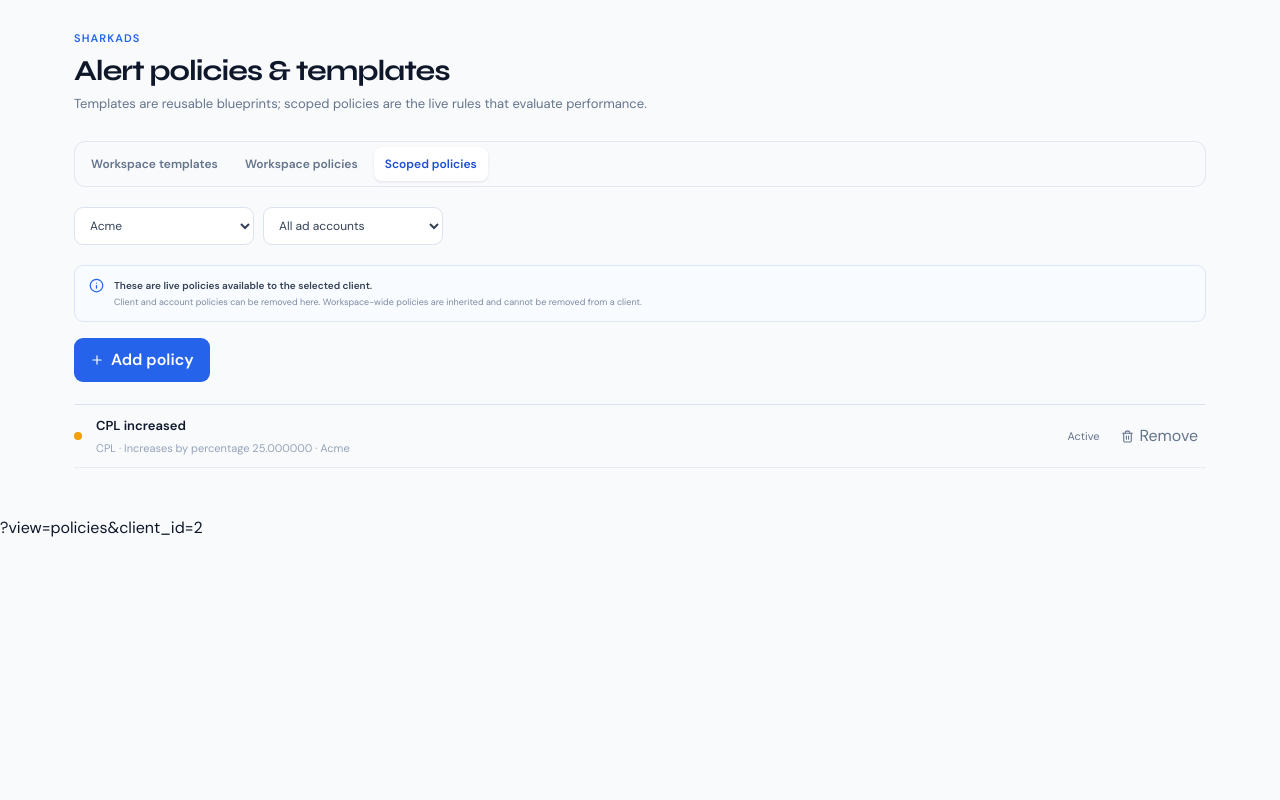
Scenario: removes a client-scoped policy from the selected client
Click the button with aria-label "Remove CPL increased": (1160, 436) x1=1113 y1=418 x2=1206 y2=454
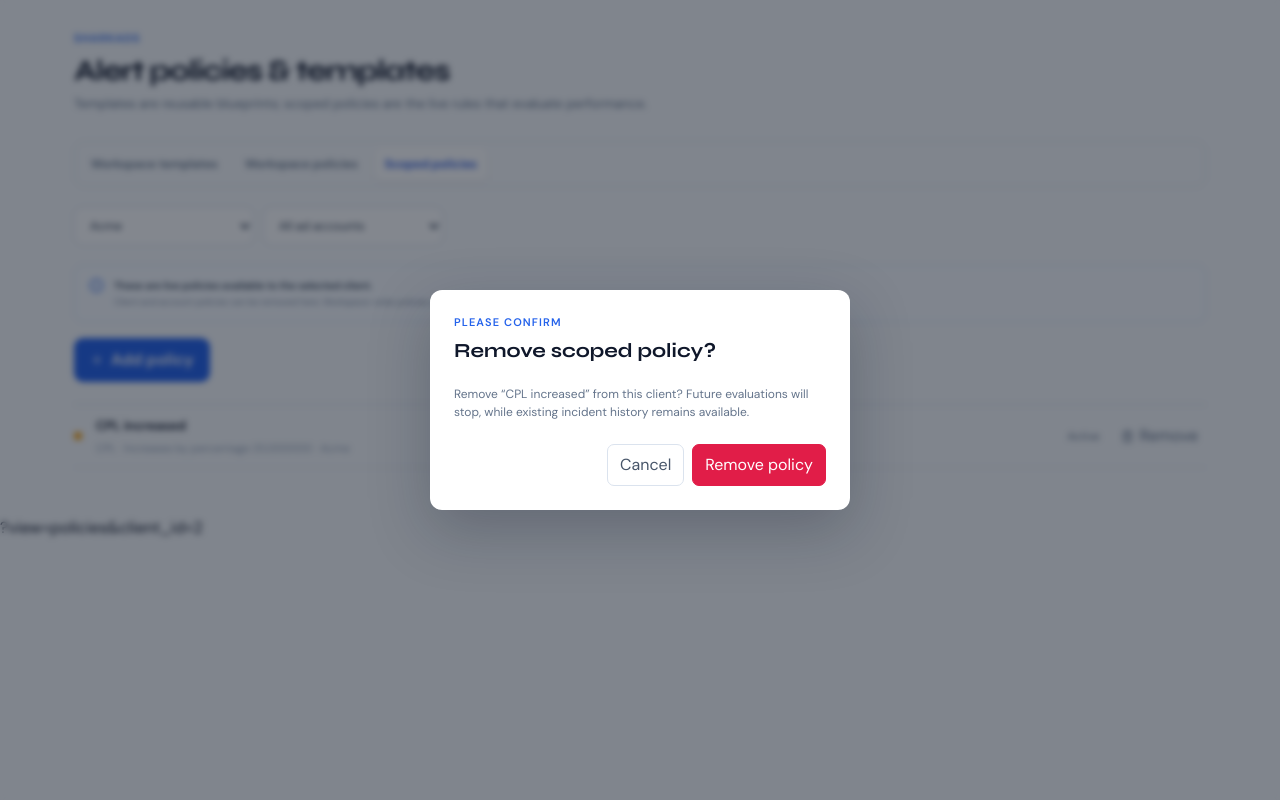
Expected: the dialog "Remove scoped policy?" shows "Future evaluations will stop", x1=454 y1=386 x2=808 y2=420
Click the button "Remove policy": (759, 465) x1=692 y1=444 x2=826 y2=486
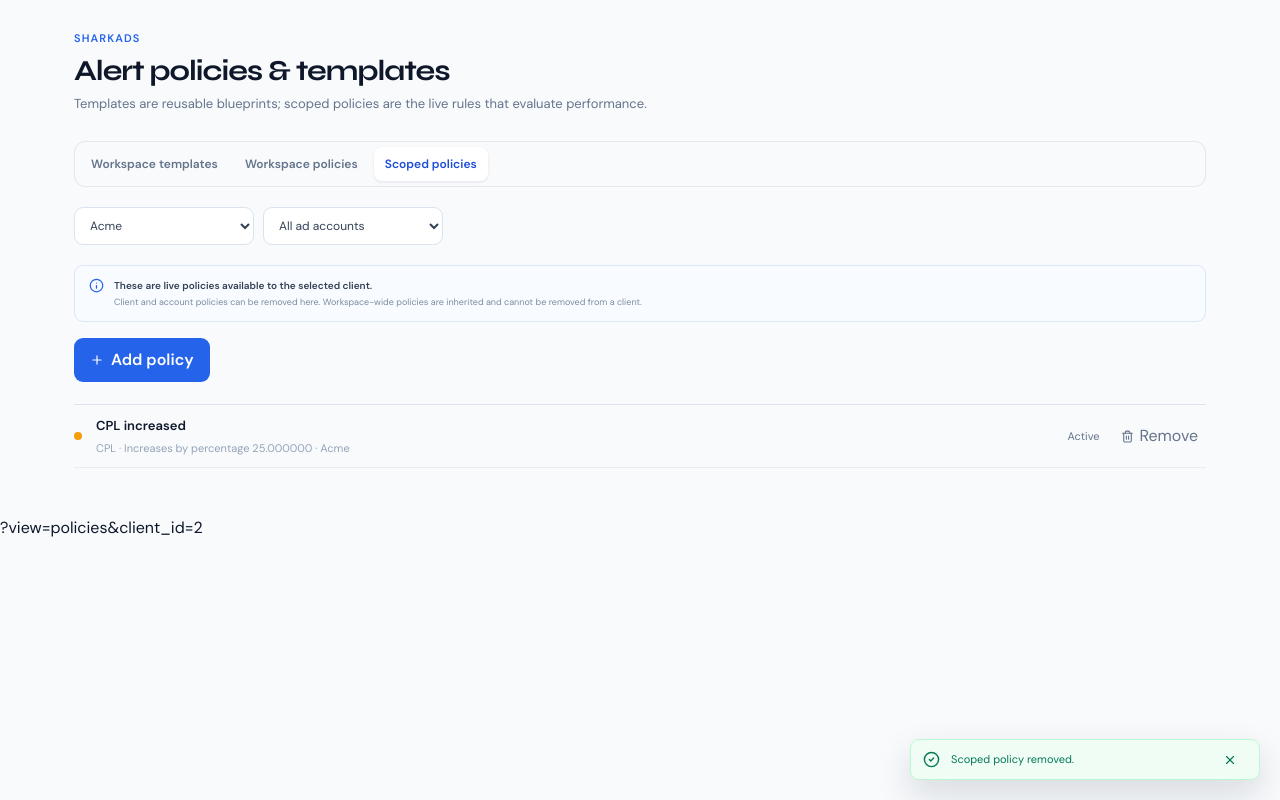
Expected: the text "Scoped policy removed." is shown, x1=951 y1=752 x2=1074 y2=766
